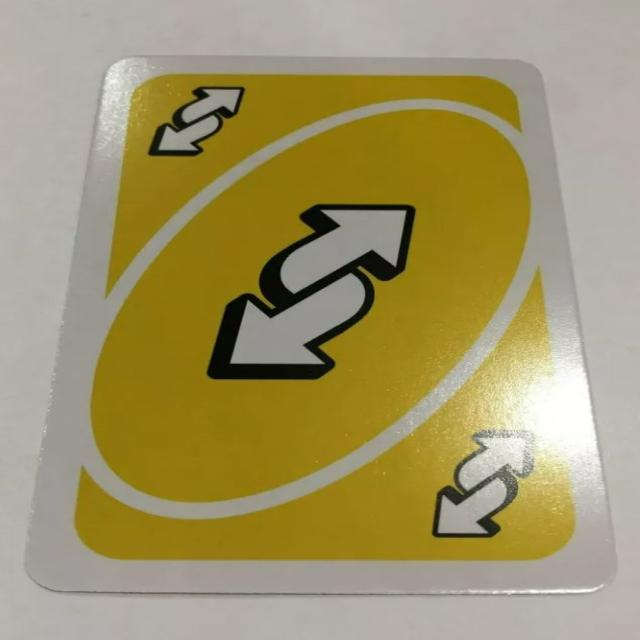Reverse: (134, 78, 250, 159)
Yellow_Card: (59, 66, 586, 571)
